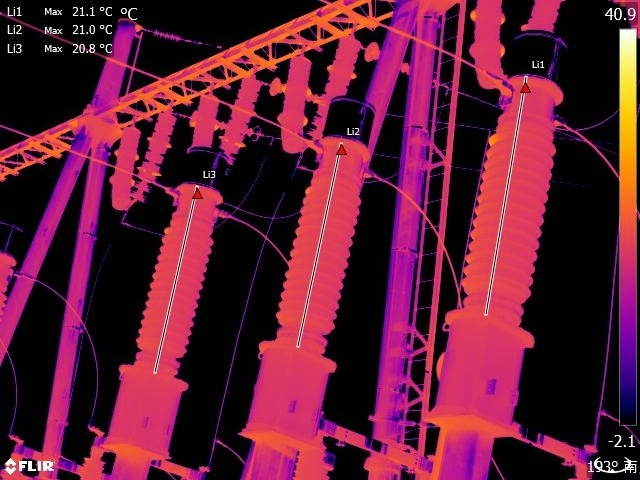current transformer: (422, 23, 576, 423), (241, 87, 377, 444), (100, 154, 226, 454)
insulator: (309, 31, 364, 149), (218, 73, 266, 162), (276, 49, 314, 159), (137, 106, 177, 198), (365, 42, 437, 86), (110, 122, 144, 215), (470, 1, 504, 88), (186, 86, 222, 150), (191, 114, 264, 143), (269, 79, 318, 106)
